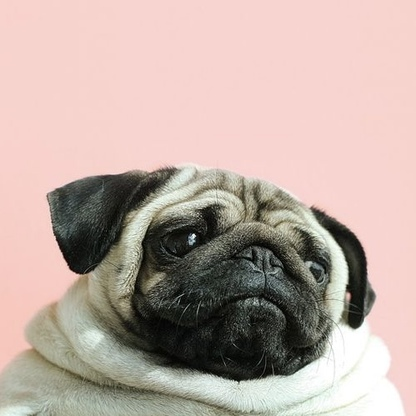Pug: (1, 149, 412, 416)
